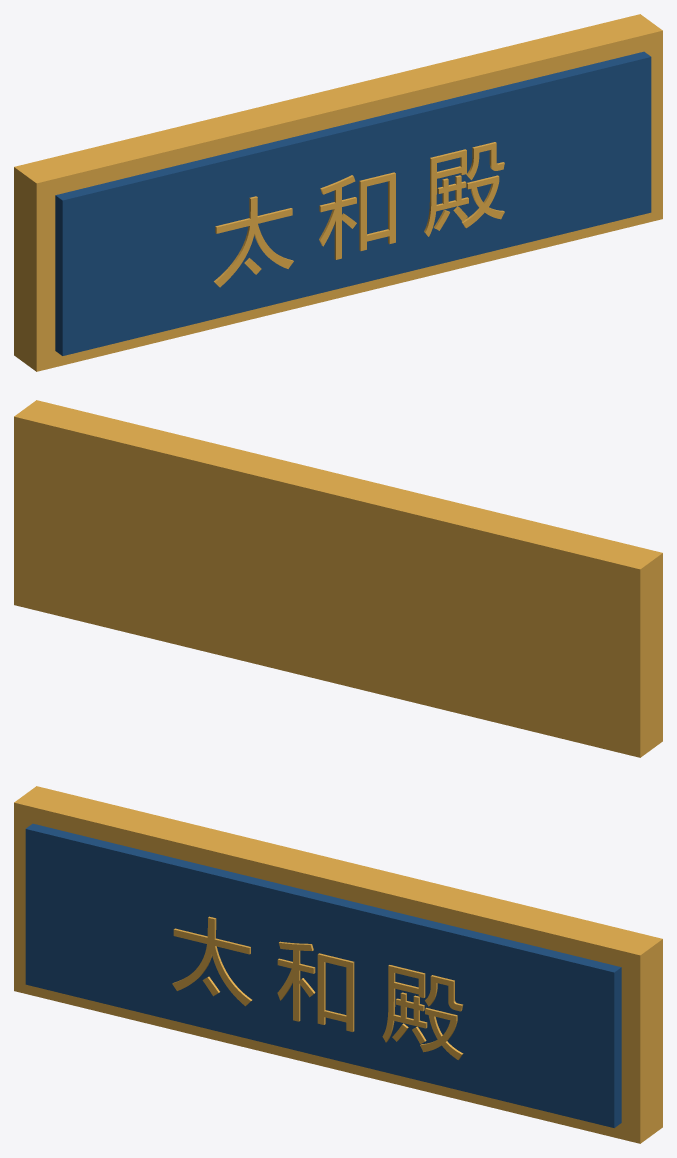
File: SM_16_Plaque.fbx
3 renders of one model, top to bottom at view 1: azimuth 30°, elevation 25°; view 2: azimuth 150°, elevation 25°; view 3: azimuth 330°, elevation 25°, orthographic.
Parts seen in each view (by area): view 1: Plaque; view 2: Plaque; view 3: Plaque.
Part boxes in pixels (x1,y1,x2,y2): Plaque: (14,14,662,371); Plaque: (14,400,662,757); Plaque: (14,786,662,1143).
Bounding box in the file's own units: 400 × 36.3 × 115.
